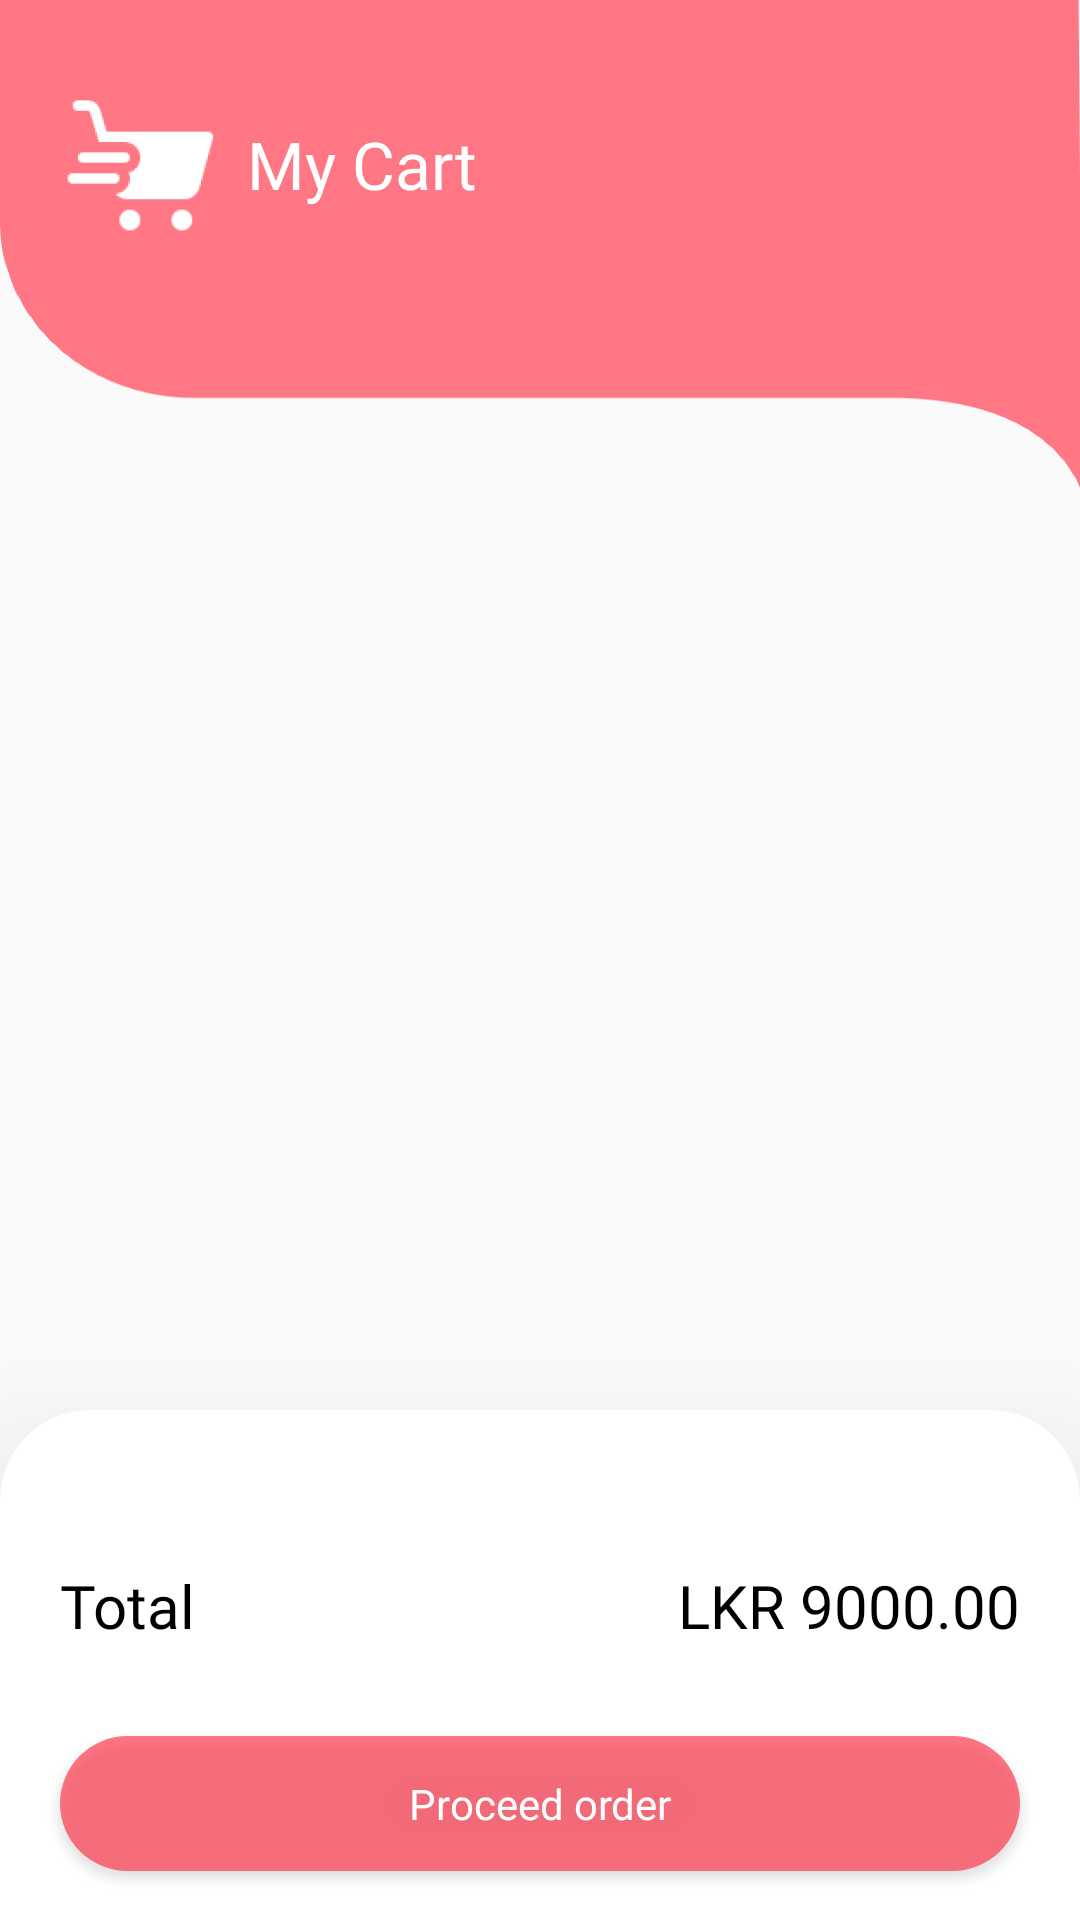

Icons on this 1080px×1920px Android screen, each with the point to tap as [x,y]:
fast cart: [140,165]
